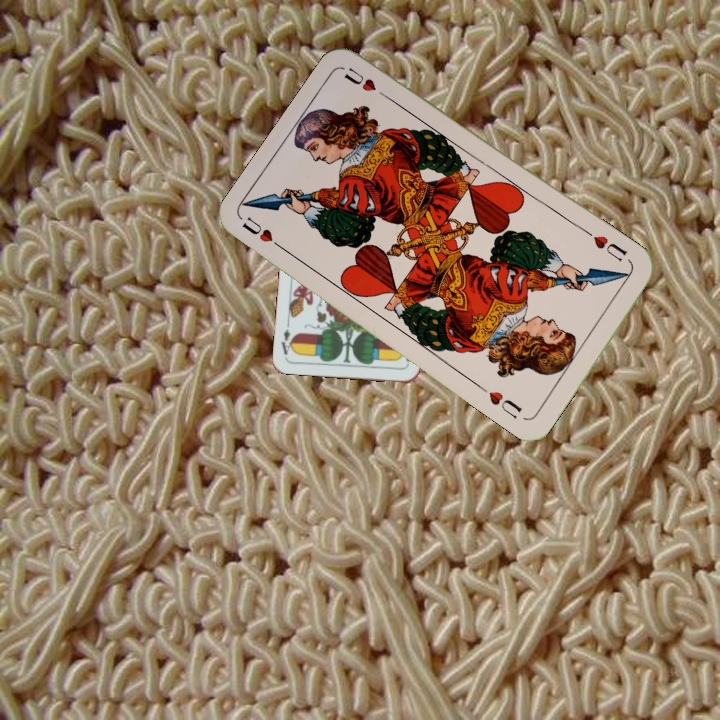HU: (238, 213, 290, 255), (583, 227, 630, 265)
